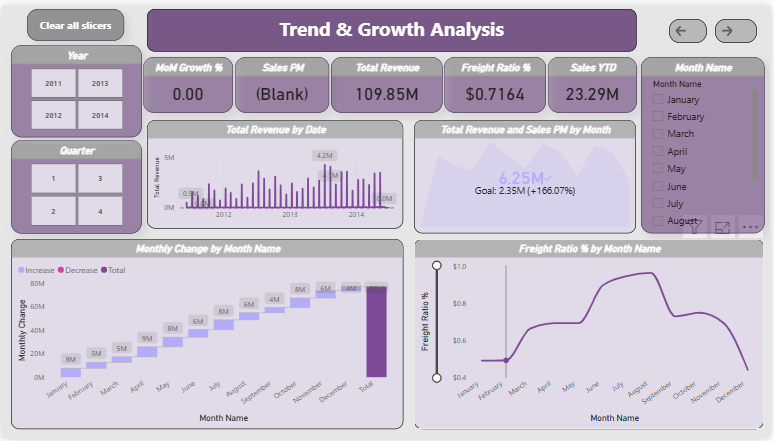

What the dashboard file says about the page in this screenshot:
{"tool":"powerbi","page":{"name":"Trend & Growth Analysis","canvas":[1280,720],"ordinal":1},"visuals":[{"type":"textbox","box":[241.4,4.3,815.7,71.4],"z":0},{"type":"card","title":"Sales YTD","fields":{"Values":["DAX_Measures.Sales YTD"]},"box":[910,84.4,147.8,93.3],"z":1000},{"type":"card","title":"Sales PM","fields":{"Values":["DAX_Measures.Sales PM"]},"box":[388.6,84.3,157.1,92.9],"z":2000},{"type":"card","title":"MoM Growth %","fields":{"Values":["DAX_Measures.MoM Growth %"]},"box":[235.7,84.3,150,92.9],"z":3000},{"type":"card","title":"Freight Ratio %","fields":{"Values":["DAX_Measures.Freight Ratio %"]},"box":[737.1,84.3,170,92.9],"z":4000},{"type":"lineChart","fields":{"Category":["Dim Date.Month Name"],"Y":["DAX_Measures.Freight Ratio %"]},"box":[686.7,387.8,583.3,316.7],"z":5000},{"type":"slicer","title":"Month Name","fields":{"Values":["Dim Date.Month Name"]},"box":[1064.3,84.3,205.7,294.3],"z":6000},{"type":"slicer","title":"Quarter","fields":{"Values":["Dim Date.Quarter"]},"box":[14.4,223.3,217.8,155.6],"z":7000},{"type":"slicer","title":"Year","fields":{"Values":["Dim Date.Year"]},"box":[14.4,65.6,217.8,154.4],"z":8000},{"type":"kpi","fields":{"Indicator":["DAX_Measures.Total Revenue"],"Goal":["DAX_Measures.Sales PM"],"TrendLine":["Dim Date.Month"]},"box":[687.1,190,370,188.6],"z":9000},{"type":"waterfallChart","fields":{"Category":["Dim Date.Month Name"],"Y":["DAX_Measures.Monthly Change"]},"box":[14.4,387.8,654.4,316.7],"z":10000},{"type":"card","title":"Total Revenue","fields":{"Values":["DAX_Measures.Total Revenue"]},"box":[548.6,84.3,185.7,92.9],"z":11000},{"type":"actionButton","box":[1112.2,22.2,63.3,40],"z":12000},{"type":"actionButton","box":[42.2,4.4,162.2,53.3],"z":13000},{"type":"lineChart","fields":{"Category":["Dim Date.Date"],"Y":["DAX_Measures.Total Revenue"]},"box":[241.4,190,427.1,181.4],"z":14000},{"type":"actionButton","box":[1180,20,100,40],"z":15000}]}

Visuals, with their boxes in screenshot pixels (x1, y1, x2, y2), scaled from the page's 1280x720 canvas onto the 774x441 screenshot:
textbox: select_region(146, 3, 639, 46)
"Sales YTD" card: select_region(550, 52, 640, 109)
"Sales PM" card: select_region(235, 52, 330, 109)
"MoM Growth %" card: select_region(143, 52, 233, 109)
"Freight Ratio %" card: select_region(446, 52, 549, 109)
lineChart - Dim Date.Month Name x DAX_Measures.Freight Ratio %: select_region(415, 238, 768, 432)
"Month Name" slicer: select_region(644, 52, 768, 232)
"Quarter" slicer: select_region(9, 137, 140, 232)
"Year" slicer: select_region(9, 40, 140, 135)
kpi - DAX_Measures.Total Revenue x DAX_Measures.Sales PM: select_region(415, 116, 639, 232)
waterfallChart - Dim Date.Month Name x DAX_Measures.Monthly Change: select_region(9, 238, 404, 432)
"Total Revenue" card: select_region(332, 52, 444, 109)
actionButton: select_region(673, 14, 711, 38)
actionButton: select_region(26, 3, 124, 35)
lineChart - Dim Date.Date x DAX_Measures.Total Revenue: select_region(146, 116, 404, 227)
actionButton: select_region(714, 12, 773, 37)
